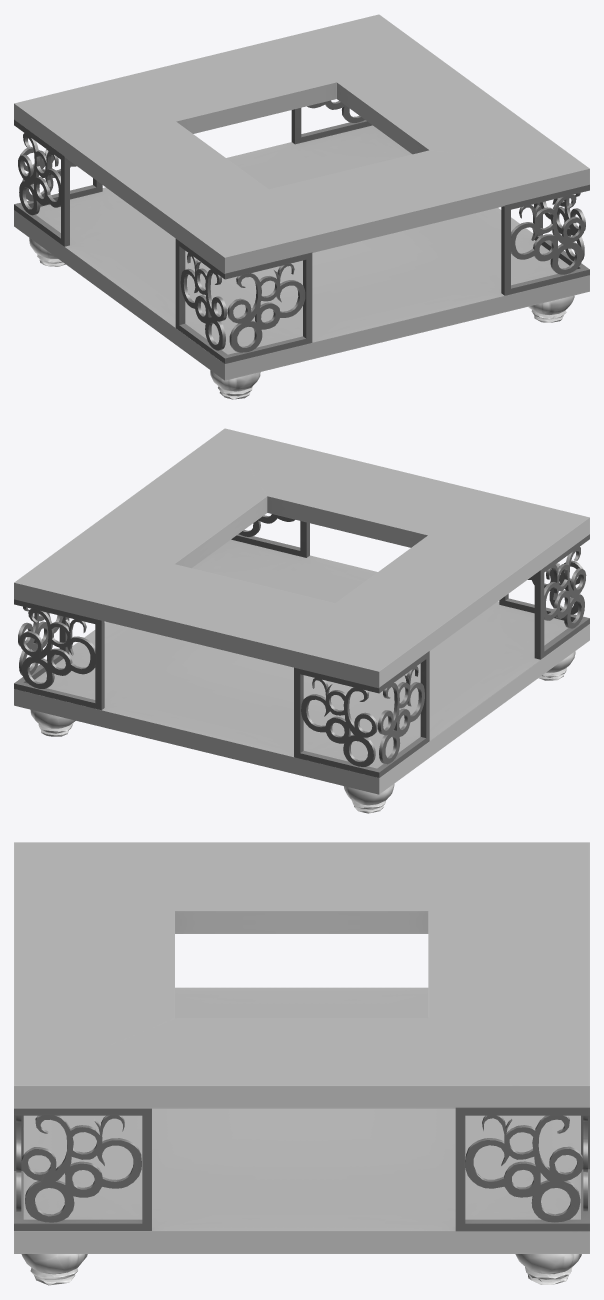
Rendered from raw_model.obj.
3 renders of one model, top to bottom at view 1: azimuth 30°, elevation 25°; view 2: azimuth 150°, elevation 25°; view 3: azimuth 270°, elevation 25°, orthographic. The views are drawn at different scales.
Parts seen in each view (by area): view 1: solid_002, solid_003; view 2: solid_002, solid_003; view 3: solid_002, solid_003.
Boxes of the visible parts, x1,y1,x2,y2 form: solid_002: (14, 14, 589, 399); solid_003: (14, 100, 589, 363); solid_002: (14, 428, 589, 813); solid_003: (14, 514, 589, 777); solid_002: (14, 842, 589, 1285); solid_003: (14, 1107, 589, 1231).
Bounding box in the file's own units: 0.6002 × 0.2415 × 0.6001.
1 material, 1 textured.
